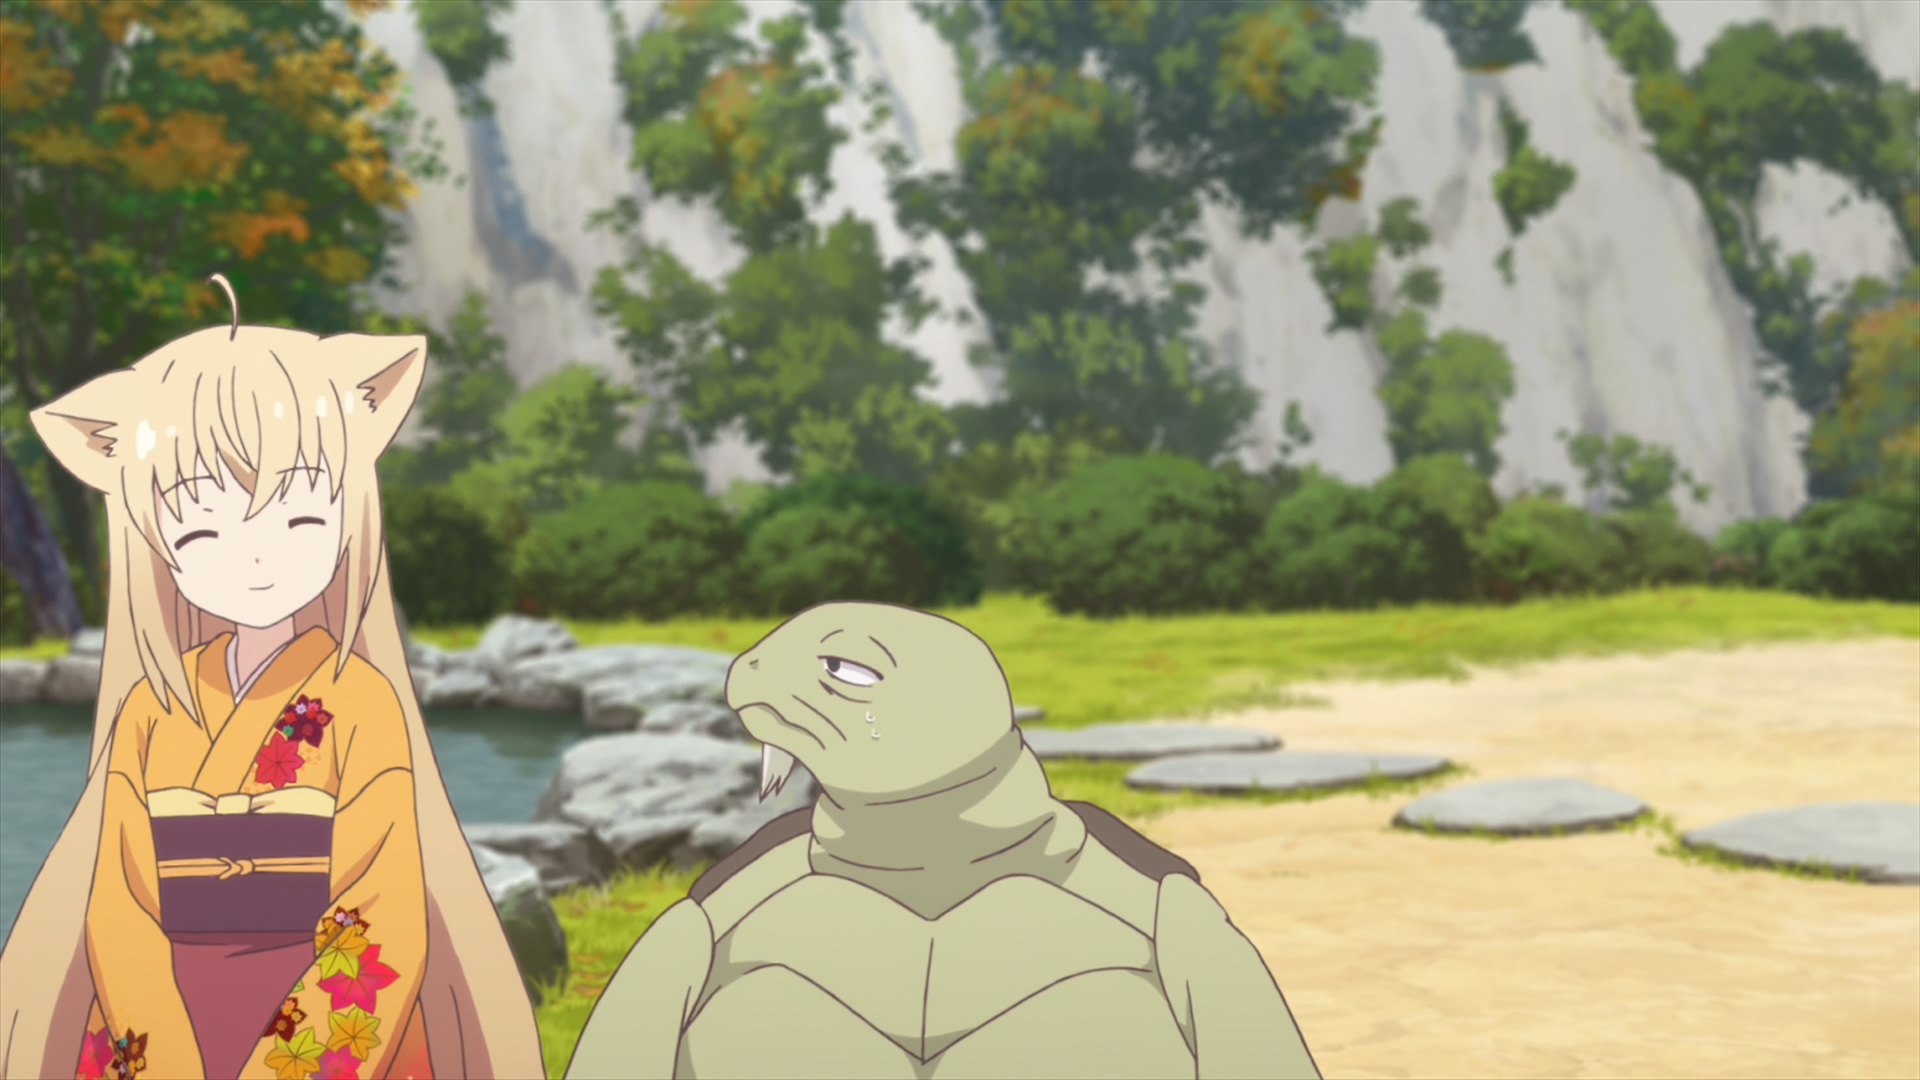其他: (564, 601, 1317, 1080)
柚: (1, 274, 546, 1080)
